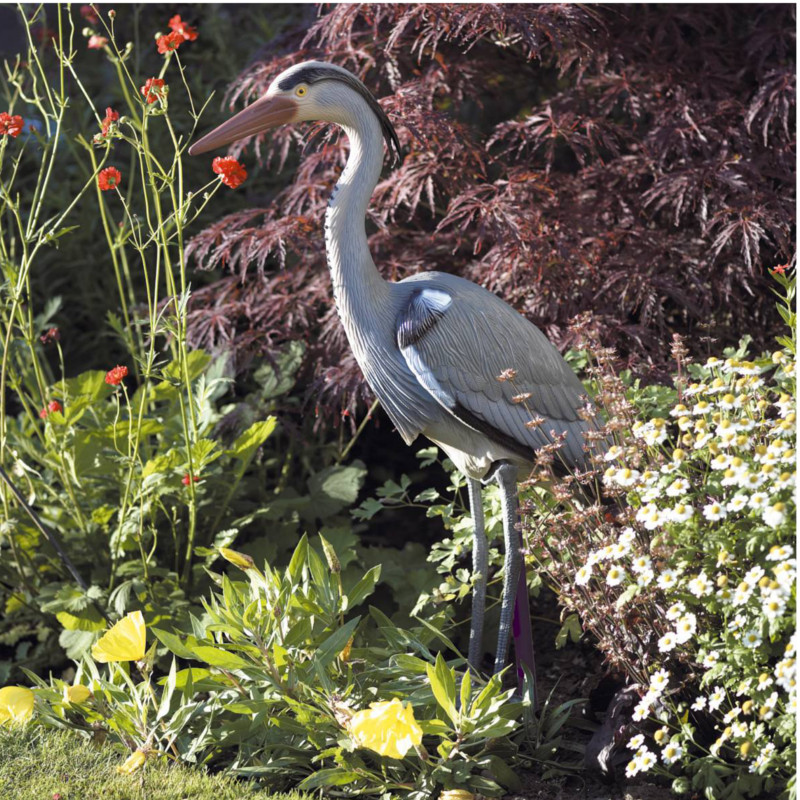heron: (182, 56, 608, 708)
